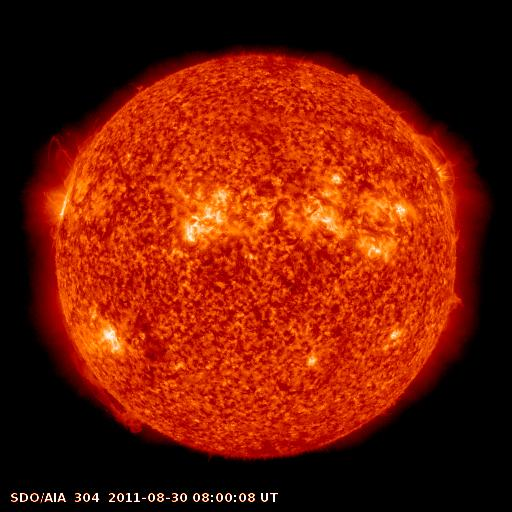prominence: (67, 340, 147, 436), (411, 125, 468, 240), (435, 286, 475, 318)
